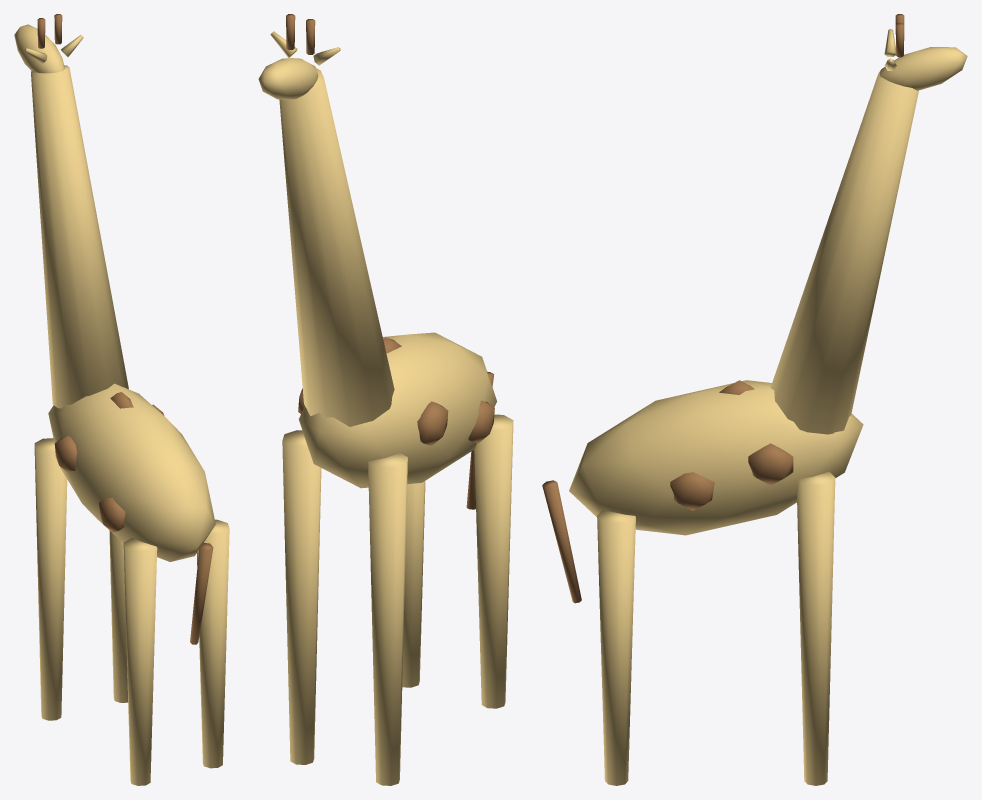
File: Kenya_Giraffe_Sculpted.glb
The picture shows the model from 3 angles, left to right: view 1: azimuth 30°, elevation 25°; view 2: azimuth 150°, elevation 25°; view 3: azimuth 270°, elevation 25°; orthographic projection. The views are drawn at different scales.
Visible parts, largest first — view 1: LongNeck, Torso.001, Leg_-0.30_0.64, Leg_-0.30_-0.64, Leg_0.30_-0.64, Leg_0.30_0.64, Head.001, Tail.001, Spot_-0.36_-0.35, Spot_-0.38_0.25; view 2: LongNeck, Torso.001, Leg_-0.30_0.64, Leg_0.30_0.64, Leg_-0.30_-0.64, Leg_0.30_-0.64, Head.001, Spot_-0.38_0.25, Spot_-0.36_-0.35, Tail.001; view 3: Torso.001, LongNeck, Leg_0.30_0.64, Leg_0.30_-0.64, Head.001, Tail.001, Spot_0.38_0.35, Spot_0.38_-0.15.
Boxes of the visible parts, box(x1,y1,x2,y2) form: LongNeck: box(31, 65, 128, 408); Torso.001: box(48, 383, 215, 561); Leg_-0.30_0.64: box(34, 438, 67, 720); Leg_-0.30_-0.64: box(123, 538, 157, 785); Leg_0.30_-0.64: box(196, 519, 229, 768); Leg_0.30_0.64: box(109, 530, 128, 702); Head.001: box(14, 24, 64, 73); Tail.001: box(190, 543, 213, 644); Spot_-0.36_-0.35: box(99, 497, 125, 532); Spot_-0.38_0.25: box(55, 436, 77, 472); LongNeck: box(279, 68, 394, 426); Torso.001: box(298, 332, 496, 488); Leg_-0.30_0.64: box(368, 453, 407, 785); Leg_0.30_0.64: box(282, 430, 321, 764); Leg_-0.30_-0.64: box(474, 414, 513, 708); Leg_0.30_-0.64: box(402, 481, 425, 687); Head.001: box(258, 58, 318, 99); Spot_-0.38_0.25: box(417, 401, 448, 445); Spot_-0.36_-0.35: box(468, 400, 494, 443); Tail.001: box(466, 371, 494, 509); Torso.001: box(569, 380, 863, 535); LongNeck: box(770, 70, 918, 434); Leg_0.30_0.64: box(797, 471, 835, 785); Leg_0.30_-0.64: box(597, 510, 635, 785); Head.001: box(880, 47, 967, 90); Tail.001: box(542, 480, 581, 603); Spot_0.38_0.35: box(748, 443, 793, 485); Spot_0.38_-0.15: box(670, 472, 714, 510).
Bounding box in the file's own units: 0.921 × 5.25 × 2.73.
